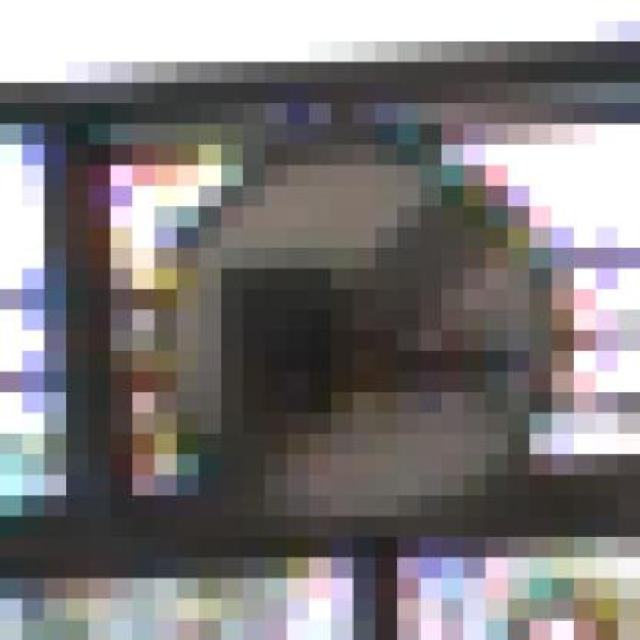Overtaking by trucks is prohibited: (110, 103, 596, 557)
